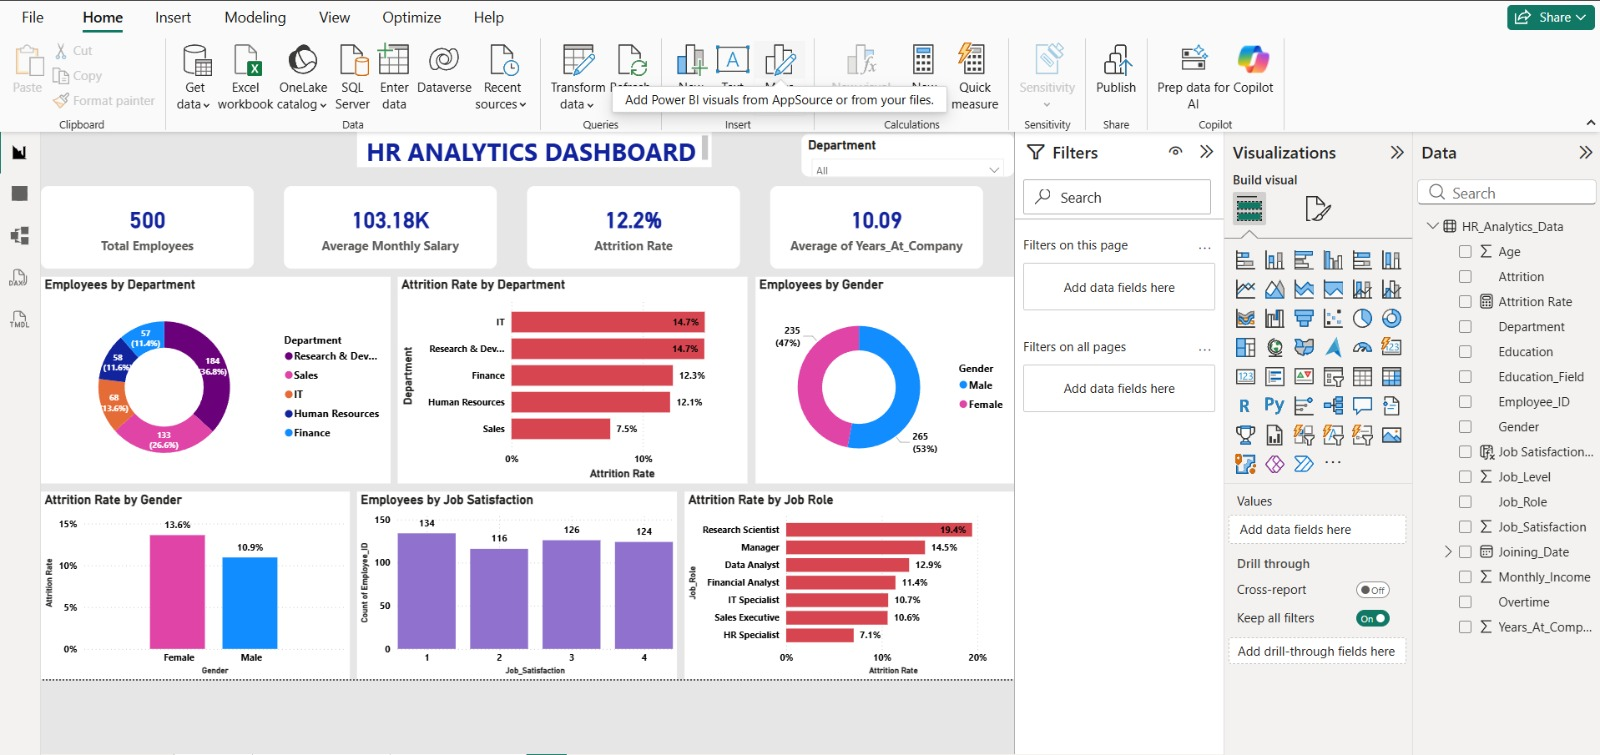

Layout of this report page (visuals, bound fields, positions):
{"tool":"powerbi","page":{"name":"Page 1","canvas":[1280,720],"ordinal":0},"visuals":[{"type":"card","fields":{"Values":["CountNonNull(HR_Analytics_Data.Employee_ID)"]},"box":[0,56.3,279.9,123.5],"z":0},{"type":"card","fields":{"Values":["Avg(HR_Analytics_Data.Monthly_Income)"]},"box":[319.7,56.3,279.9,123.5],"z":1000},{"type":"card","fields":{"Values":["HR_Analytics_Data.Attrition Rate"]},"box":[639.5,56.3,279.9,123.5],"z":2000},{"type":"card","fields":{"Values":["Avg(HR_Analytics_Data.Years_At_Company)"]},"box":[959.2,59,279.9,120.8],"z":3000},{"type":"donutChart","title":"Employees by Department","fields":{"Category":["HR_Analytics_Data.Department"],"Y":["CountNonNull(HR_Analytics_Data.Employee_ID)"]},"box":[0,190.7,459.7,271.7],"z":4000},{"type":"barChart","title":" Attrition Rate by Department","fields":{"Category":["HR_Analytics_Data.Department"],"Y":["HR_Analytics_Data.Attrition Rate"]},"box":[469.3,190.7,459.7,271.7],"z":5000},{"type":"donutChart","title":"Employees by Gender","fields":{"Y":["CountNonNull(HR_Analytics_Data.Employee_ID)"],"Category":["HR_Analytics_Data.Gender"]},"box":[940,190.7,340.3,271.7],"z":6000},{"type":"columnChart","fields":{"Category":["HR_Analytics_Data.Gender"],"Y":["HR_Analytics_Data.Attrition Rate"]},"box":[0,473.4,406.2,247],"z":7000},{"type":"clusteredColumnChart","title":"Employees by Job Satisfaction","fields":{"Y":["CountNonNull(HR_Analytics_Data.Employee_ID)"],"Category":["HR_Analytics_Data.Job_Satisfaction"]},"box":[415.8,473.2,420.7,247],"z":8000},{"type":"clusteredBarChart","title":"Attrition Rate by Job Role","fields":{"Category":["HR_Analytics_Data.Job_Role"],"Y":["HR_Analytics_Data.Attrition Rate"]},"box":[846.2,473.2,434.1,247],"z":9000},{"type":"textbox","box":[415.8,0,466.6,46.7],"z":10000},{"type":"slicer","title":"Department","fields":{"Values":["HR_Analytics_Data.Department"]},"box":[959.2,0,279.9,56.3],"z":10001}]}

Visuals, with their boxes on the page's 1280x720 design canvas (x1, y1, x2, y2). These are canvas units, not pixel positions in the 1600x755 screenshot, which may show the page scaled, cropped or inside an application window:
card - CountNonNull(HR_Analytics_Data.Employee_ID): bbox=[0, 56, 280, 180]
card - Avg(HR_Analytics_Data.Monthly_Income): bbox=[320, 56, 600, 180]
card - HR_Analytics_Data.Attrition Rate: bbox=[640, 56, 919, 180]
card - Avg(HR_Analytics_Data.Years_At_Company): bbox=[959, 59, 1239, 180]
"Employees by Department" donutChart: bbox=[0, 191, 460, 462]
" Attrition Rate by Department" barChart: bbox=[469, 191, 929, 462]
"Employees by Gender" donutChart: bbox=[940, 191, 1280, 462]
columnChart - HR_Analytics_Data.Gender x HR_Analytics_Data.Attrition Rate: bbox=[0, 473, 406, 720]
"Employees by Job Satisfaction" clusteredColumnChart: bbox=[416, 473, 836, 720]
"Attrition Rate by Job Role" clusteredBarChart: bbox=[846, 473, 1280, 720]
textbox: bbox=[416, 0, 882, 47]
"Department" slicer: bbox=[959, 0, 1239, 56]
